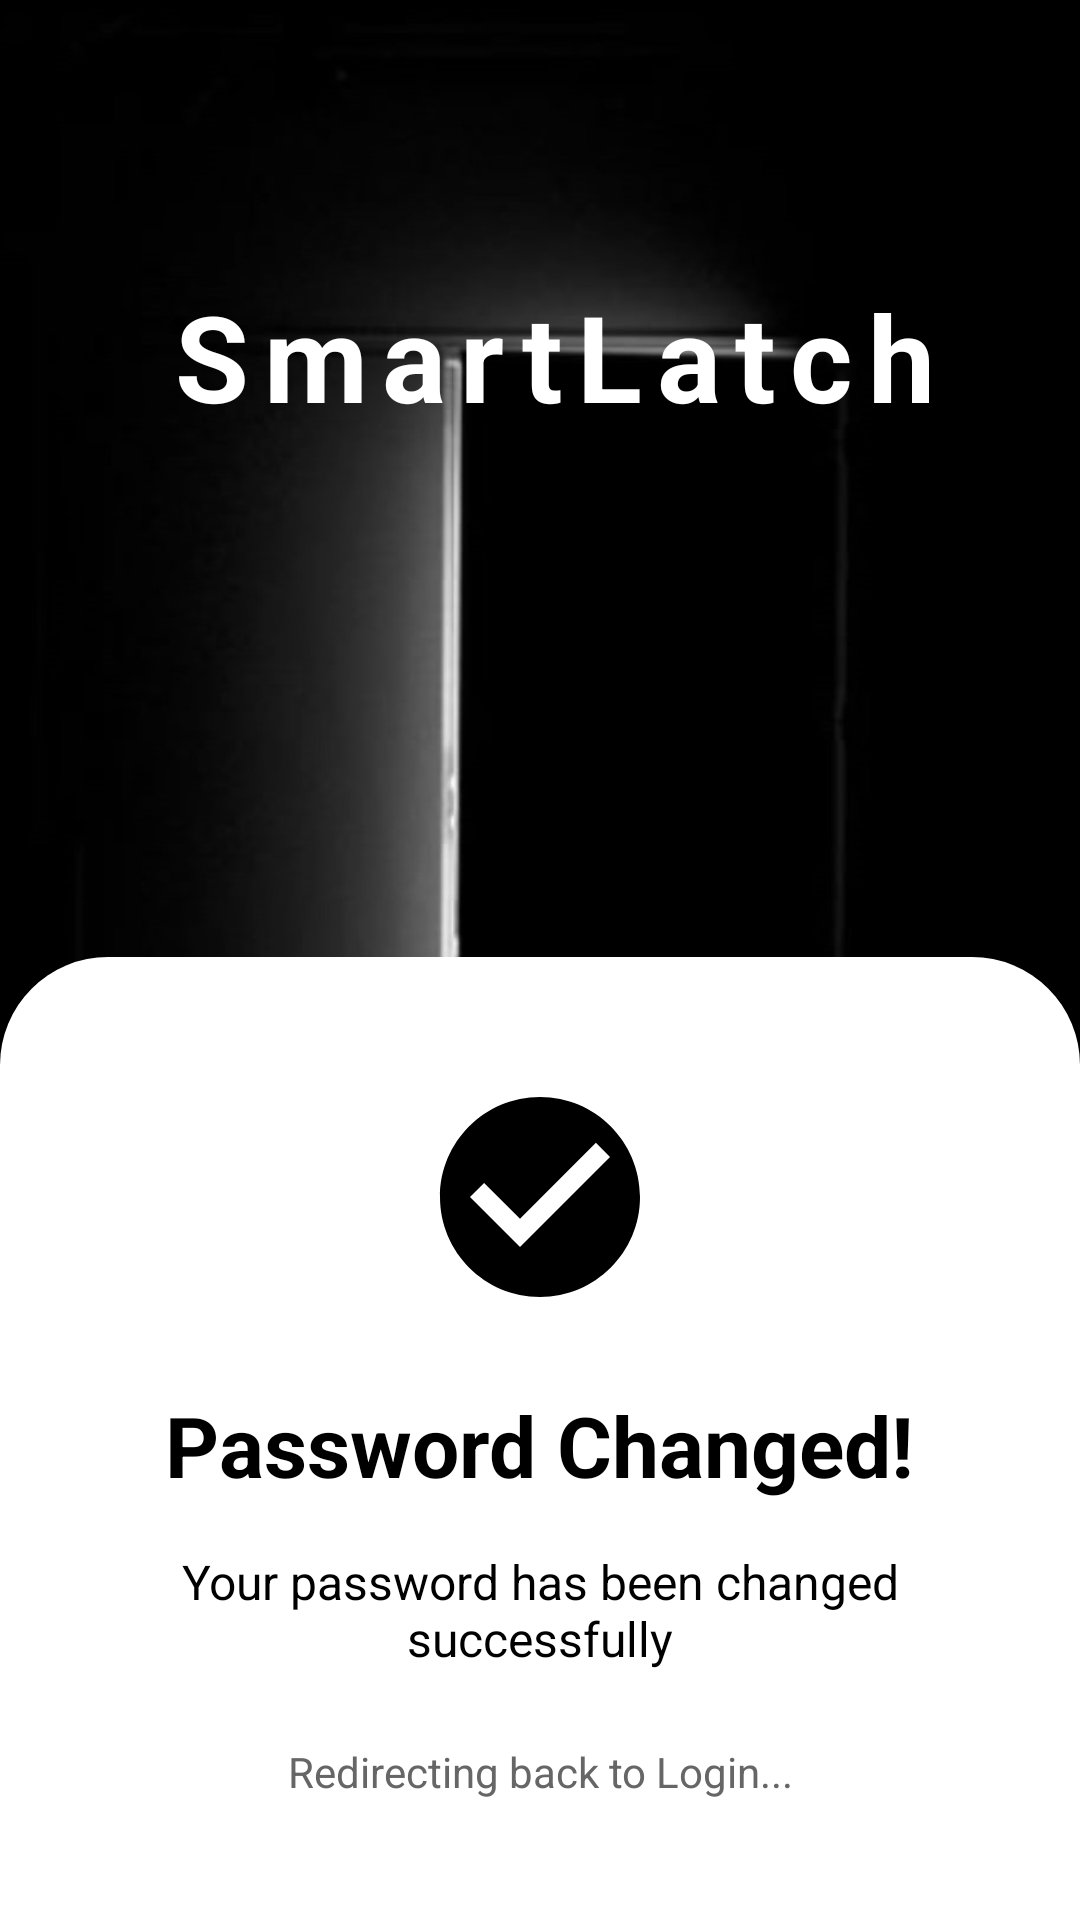

Named icons in this screenshot (1080*1920) and their centers, (x=x, y=y):
Success checkmark: (x=539, y=1197)
